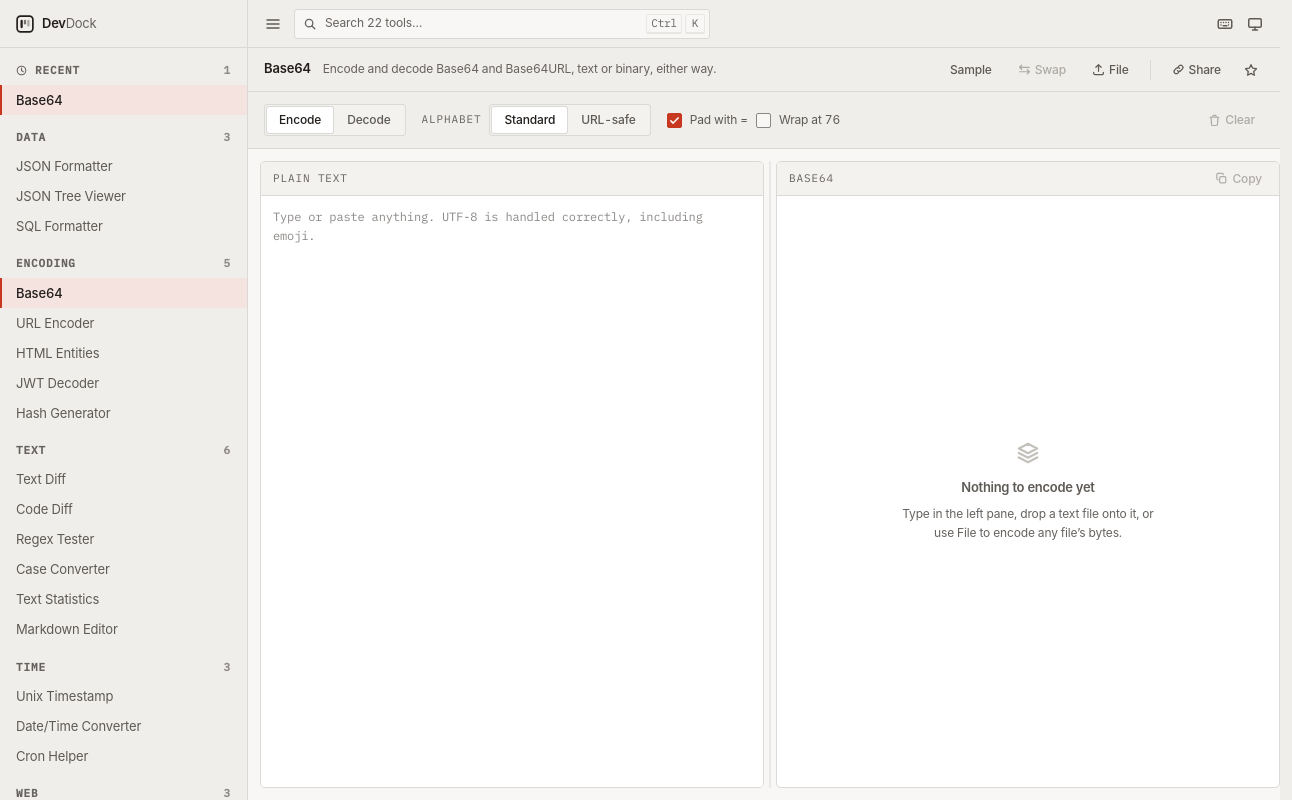
Test: app integration › runs a real transformation end to end
In the text box named "Text to encode": (512, 492) 261,196 -> 763,787, type "hi"
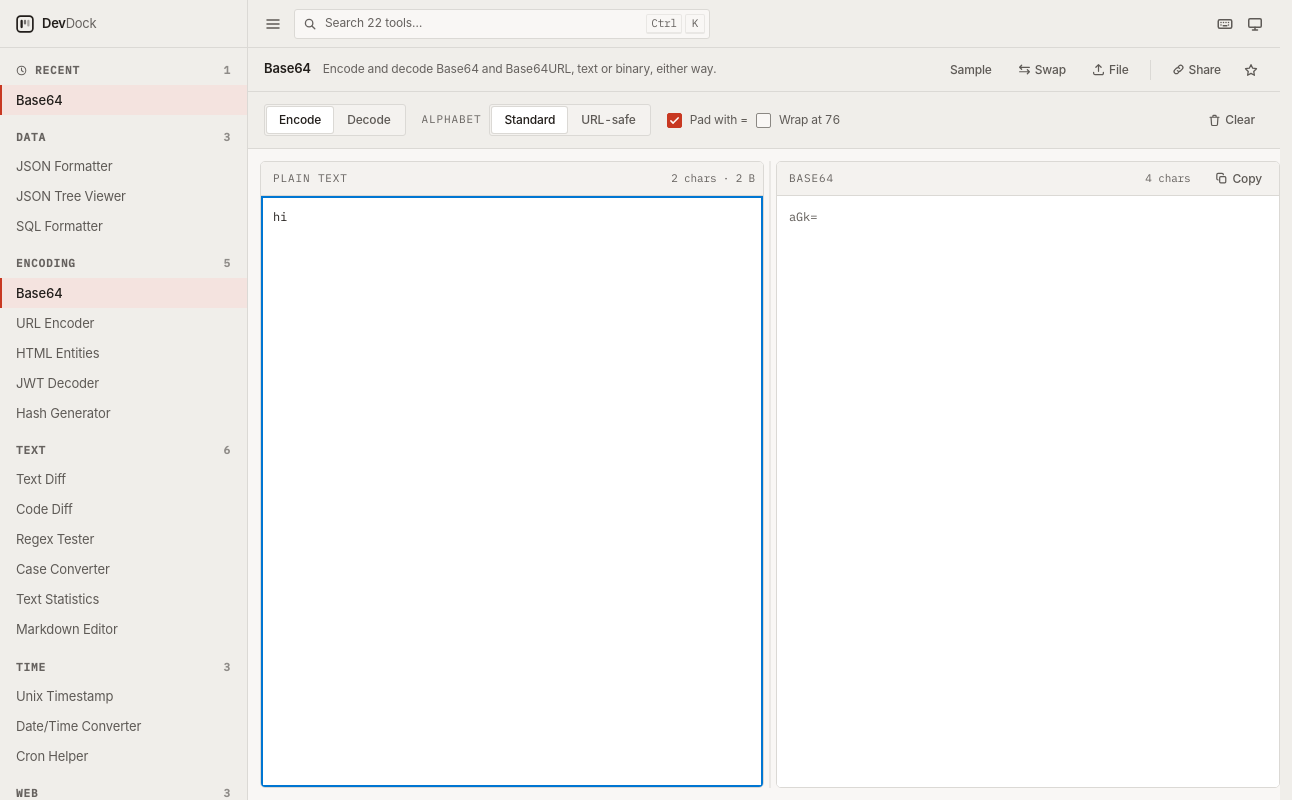
Now the text box named "Result" holds "aGk=", box 777,196 -> 1279,787
